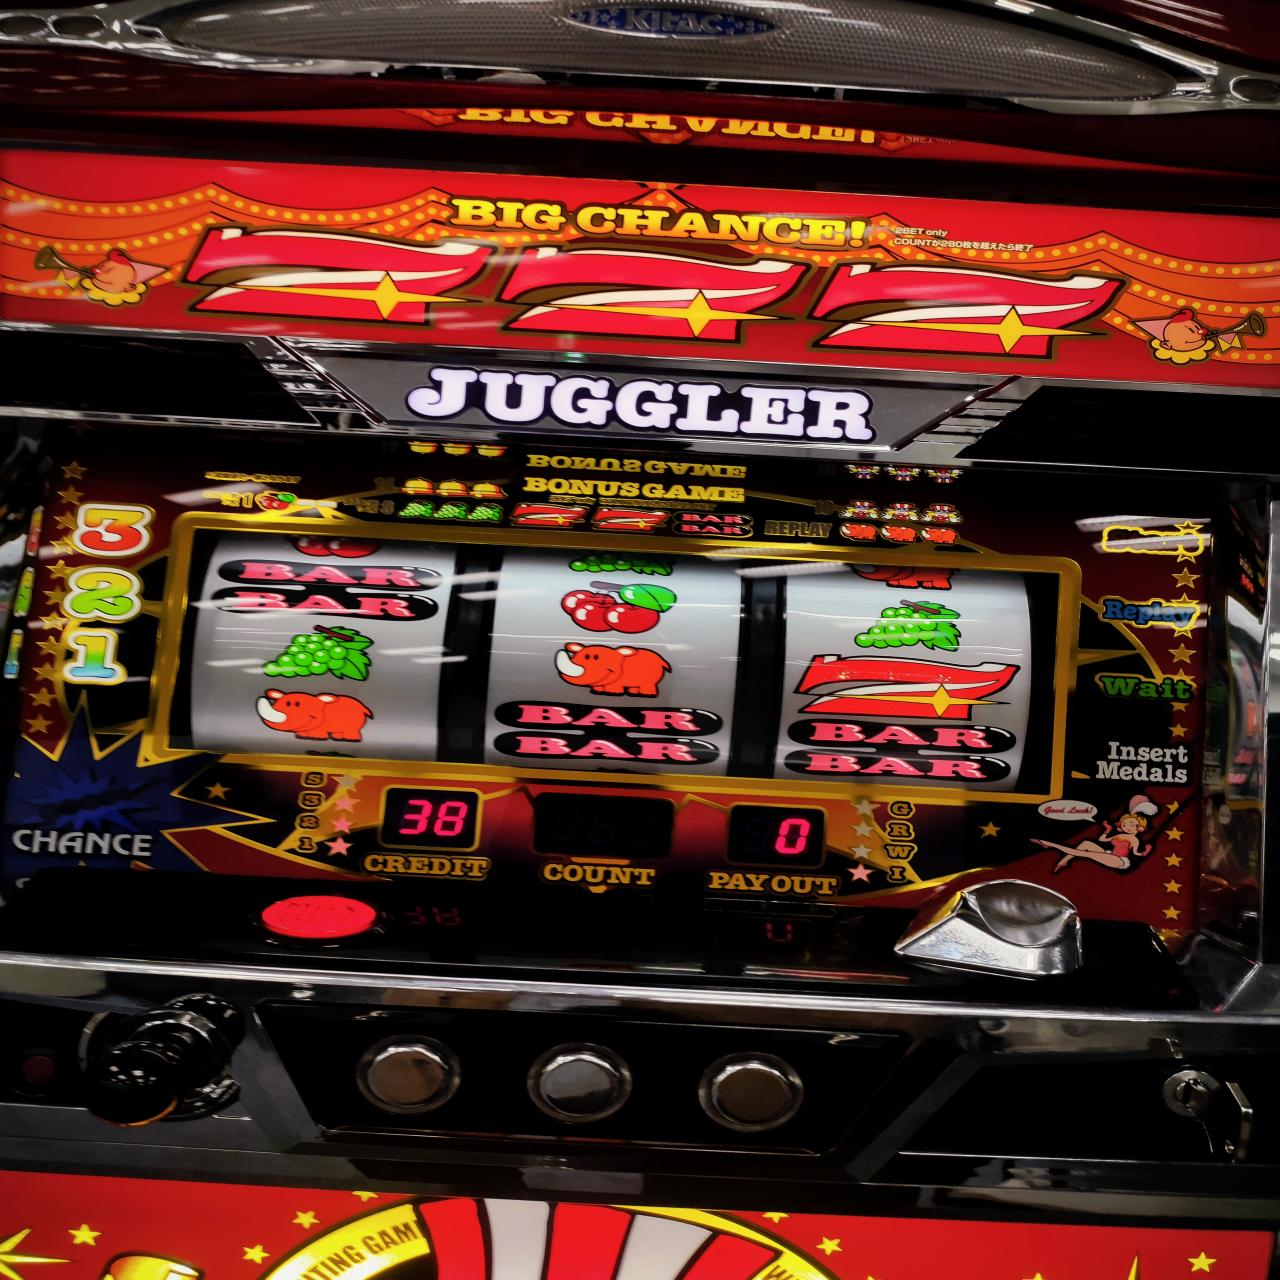7: (788, 653, 1019, 719)
8: (551, 639, 674, 696), (257, 685, 370, 744)
Display: (181, 525, 1054, 802)
bar: (496, 697, 727, 768), (785, 719, 1017, 784), (213, 558, 448, 621)
cherry: (561, 579, 679, 632)
grape: (258, 624, 375, 682), (851, 599, 965, 653)
